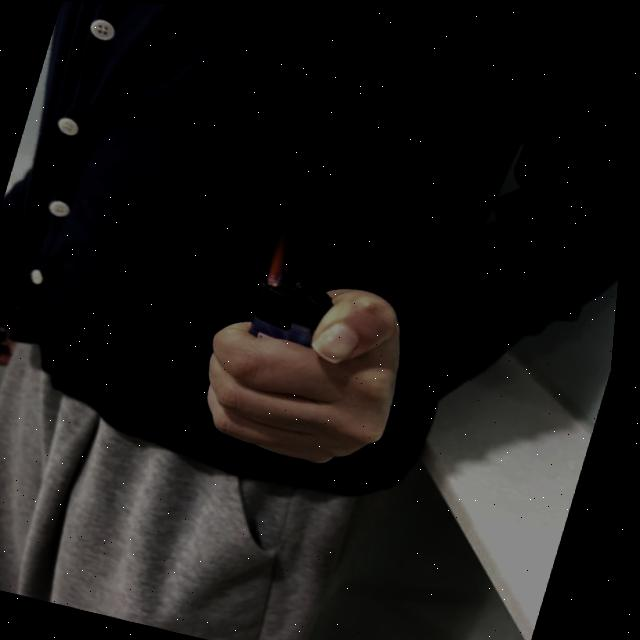Fire: (266, 218, 304, 288)
